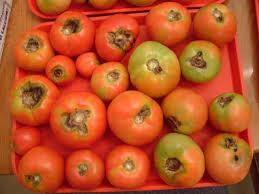tomato early blight: (52, 88, 108, 151), (128, 42, 182, 102), (108, 91, 165, 147), (156, 133, 207, 190), (11, 69, 61, 127), (148, 2, 198, 57), (205, 131, 254, 186), (14, 146, 66, 194), (161, 87, 209, 135), (14, 23, 57, 76), (50, 11, 97, 59), (95, 16, 142, 64), (194, 3, 237, 52), (107, 145, 152, 190), (180, 41, 223, 85), (91, 63, 133, 108), (209, 93, 253, 135), (66, 151, 106, 190), (46, 56, 78, 89)
